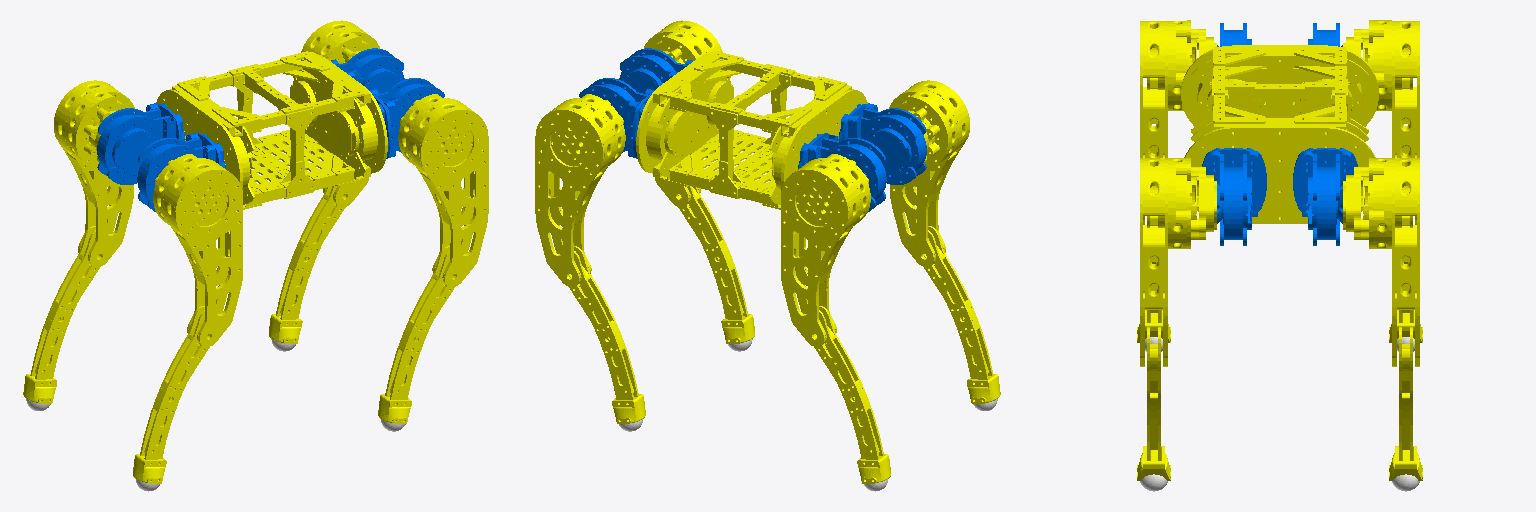
The robot description file, URDF, robot "g308_km1":
<?xml version="1.0" encoding="utf-8"?>
<!-- This URDF was automatically created by SolidWorks to URDF Exporter! Originally created by [author] ([email redacted]) 
     Commit Version: 1.6.0-4-g7f85cfe  Build Version: 1.6.7995.38578
     For more information, please see http://wiki.ros.org/sw_urdf_exporter -->
<robot
  name="g308_km1">
  <link
    name="base_link">
    <inertial>
      <origin
        xyz="-0.0214023928696577 1.70806164934374E-05 0.00448859468724072"
        rpy="0 0 0" />
      <mass
        value="2.67950972765001" />
      <inertia
        ixx="0.00764924890430011"
        ixy="5.2561537663457E-19"
        ixz="1.26393197598099E-21"
        iyy="0.00306662218528944"
        iyz="-2.86196080684661E-19"
        izz="0.00637351494049742" />
    </inertial>
    <visual>
      <origin
        xyz="0 0 0"
        rpy="0 0 0" />
      <geometry>
        <mesh
          filename="package://g308_km1/meshes/base_link.STL" />
      </geometry>
      <material
        name="">
        <color
          rgba="1 1 0 1" />
      </material>
    </visual>
    <collision>
      <origin
        xyz="0 0 0"
        rpy="0 0 0" />
      <geometry>
        <mesh
          filename="package://g308_km1/meshes/base_link.STL" />
      </geometry>
    </collision>
  </link>
  <link
    name="FL_hip">
    <inertial>
      <origin
        xyz="0.0323040033471831 0.000154622877039523 -0.000486401620728619"
        rpy="0 0 0" />
      <mass
        value="0.644397945178878" />
      <inertia
        ixx="0.000560096488896003"
        ixy="-2.58445896879449E-08"
        ixz="-1.17457351822239E-08"
        iyy="0.000387498452982006"
        iyz="9.77577836232393E-09"
        izz="0.000727167585866916" />
    </inertial>
    <visual>
      <origin
        xyz="0 0 0"
        rpy="0 0 0" />
      <geometry>
        <mesh
          filename="package://g308_km1/meshes/FL_hip.STL" />
      </geometry>
      <material
        name="">
        <color
          rgba="0 0.501960784313725 1 1" />
      </material>
    </visual>
    <collision>
      <origin
        xyz="0 0 0"
        rpy="0 0 0" />
      <geometry>
        <mesh
          filename="package://g308_km1/meshes/FL_hip.STL" />
      </geometry>
    </collision>
  </link>
  <joint
    name="FL_hip_joint"
    type="revolute">
    <origin
      xyz="-0.169896957635187 -0.0615 0.00773563134770065"
      rpy="1.5707963267949 0 3.14159265358979" />
    <parent
      link="base_link" />
    <child
      link="FL_hip" />
    <axis
      xyz="1 0 0" />
    <limit
      lower="0"
      upper="0"
      effort="20"
      velocity="10" />
  </joint>
  <link
    name="FL_thigh">
    <inertial>
      <origin
        xyz="-0.0033537558546152 -0.0338204158502984 -0.0432769291541659"
        rpy="0 0 0" />
      <mass
        value="1.30117807647032" />
      <inertia
        ixx="0.00279206136091976"
        ixy="0.000172867258688168"
        ixz="2.70466477607697E-06"
        iyy="0.000956985960310788"
        iyz="-2.89466002187096E-06"
        izz="0.00368635586600467" />
    </inertial>
    <visual>
      <origin
        xyz="0 0 0"
        rpy="0 0 0" />
      <geometry>
        <mesh
          filename="package://g308_km1/meshes/FL_thigh.STL" />
      </geometry>
      <material
        name="">
        <color
          rgba="1 1 0 1" />
      </material>
    </visual>
    <collision>
      <origin
        xyz="0 0 0"
        rpy="0 0 0" />
      <geometry>
        <mesh
          filename="package://g308_km1/meshes/FL_thigh.STL" />
      </geometry>
    </collision>
  </link>
  <joint
    name="FL_thigh_joint"
    type="revolute">
    <origin
      xyz="0.0677000000000162 0 -0.0389999999999989"
      rpy="0 0 0" />
    <parent
      link="FL_hip" />
    <child
      link="FL_thigh" />
    <axis
      xyz="0 0 1" />
    <limit
      lower="0"
      upper="0"
      effort="20"
      velocity="10" />
  </joint>
  <link
    name="FL_calf">
    <inertial>
      <origin
        xyz="0.0502864229249589 -0.0913683369163925 0.0100012603719433"
        rpy="0 0 0" />
      <mass
        value="0.24357427073011" />
      <inertia
        ixx="0.000648204117665967"
        ixy="-0.000308645680472932"
        ixz="-2.22084370787481E-09"
        iyy="0.000186059943789518"
        iyz="5.13538409378273E-09"
        izz="0.000823306990230801" />
    </inertial>
    <visual>
      <origin
        xyz="0 0 0"
        rpy="0 0 0" />
      <geometry>
        <mesh
          filename="package://g308_km1/meshes/FL_calf.STL" />
      </geometry>
      <material
        name="">
        <color
          rgba="1 1 0 1" />
      </material>
    </visual>
    <collision>
      <origin
        xyz="0 0 0"
        rpy="0 0 0" />
      <geometry>
        <mesh
          filename="package://g308_km1/meshes/FL_calf.STL" />
      </geometry>
    </collision>
  </link>
  <joint
    name="FL_calf_joint"
    type="revolute">
    <origin
      xyz="0 -0.220000000000026 -0.0764999999999719"
      rpy="0 0 0" />
    <parent
      link="FL_thigh" />
    <child
      link="FL_calf" />
    <axis
      xyz="0 0 -1" />
    <limit
      lower="0"
      upper="0"
      effort="20"
      velocity="10" />
  </joint>
  <link
    name="FL_foot">
    <inertial>
      <origin
        xyz="5.5799523890343E-09 0.000156464784506705 6.38025032922429E-05"
        rpy="0 0 0" />
      <mass
        value="0.0311902243903799" />
      <inertia
        ixx="5.06120841117783E-06"
        ixy="1.89067425933502E-14"
        ixz="8.44229940034712E-13"
        iyy="4.98515638872327E-06"
        iyz="-1.02064134491063E-08"
        izz="5.01872622594315E-06" />
    </inertial>
    <visual>
      <origin
        xyz="0 0 0"
        rpy="0 0 0" />
      <geometry>
        <mesh
          filename="package://g308_km1/meshes/FL_foot.STL" />
      </geometry>
      <material
        name="">
        <color
          rgba="1 1 1 1" />
      </material>
    </visual>
    <collision>
      <origin
        xyz="0 0 0"
        rpy="0 0 0" />
      <geometry>
        <mesh
          filename="package://g308_km1/meshes/FL_foot.STL" />
      </geometry>
    </collision>
  </link>
  <joint
    name="FL_foot_joint"
    type="fixed">
    <origin
      xyz="0.096205 -0.22407 0.01"
      rpy="2.9432 1.5708 0" />
    <parent
      link="FL_calf" />
    <child
      link="FL_foot" />
    <axis
      xyz="0 0 0" />
    <limit
      effort="20"
      velocity="10" />
  </joint>
  <link
    name="RL_hip">
    <inertial>
      <origin
        xyz="-0.0322961922062757 0.000118232562381426 -0.000486401620728563"
        rpy="0 0 0" />
      <mass
        value="0.644397945178878" />
      <inertia
        ixx="0.000560096488896003"
        ixy="-2.58445896960332E-08"
        ixz="1.17455817602919E-08"
        iyy="0.000387498452982005"
        iyz="-9.77562253147767E-09"
        izz="0.000727167585866916" />
    </inertial>
    <visual>
      <origin
        xyz="0 0 0"
        rpy="0 0 0" />
      <geometry>
        <mesh
          filename="package://g308_km1/meshes/RL_hip.STL" />
      </geometry>
      <material
        name="">
        <color
          rgba="0 0.501960784313725 1 1" />
      </material>
    </visual>
    <collision>
      <origin
        xyz="0 0 0"
        rpy="0 0 0" />
      <geometry>
        <mesh
          filename="package://g308_km1/meshes/RL_hip.STL" />
      </geometry>
    </collision>
  </link>
  <joint
    name="RL_hip_joint"
    type="revolute">
    <origin
      xyz="0.127094802324014 -0.0614999999999994 0.00773563134769148"
      rpy="1.5707963267949 0 3.14159265358979" />
    <parent
      link="base_link" />
    <child
      link="RL_hip" />
    <axis
      xyz="1 0 0" />
    <limit
      lower="0"
      upper="0"
      effort="20"
      velocity="10" />
  </joint>
  <link
    name="RL_thigh">
    <inertial>
      <origin
        xyz="-0.0149951778219201 -0.0221789938829724 -0.0232769291541693"
        rpy="0 0 0" />
      <mass
        value="1.30117807647032" />
      <inertia
        ixx="0.0027920613609198"
        ixy="0.000172867258688068"
        ixz="2.70466477608774E-06"
        iyy="0.000956985960310799"
        iyz="-2.89466002170012E-06"
        izz="0.00368635586600472" />
    </inertial>
    <visual>
      <origin
        xyz="0 0 0"
        rpy="0 0 0" />
      <geometry>
        <mesh
          filename="package://g308_km1/meshes/RL_thigh.STL" />
      </geometry>
      <material
        name="">
        <color
          rgba="1 1 0 1" />
      </material>
    </visual>
    <collision>
      <origin
        xyz="0 0 0"
        rpy="0 0 0" />
      <geometry>
        <mesh
          filename="package://g308_km1/meshes/RL_thigh.STL" />
      </geometry>
    </collision>
  </link>
  <joint
    name="RL_thigh_joint"
    type="revolute">
    <origin
      xyz="-0.0560585780326777 -0.0116414219673207 -0.0590000000000003"
      rpy="0 0 0" />
    <parent
      link="RL_hip" />
    <child
      link="RL_thigh" />
    <axis
      xyz="0 0 1" />
    <limit
      lower="0"
      upper="0"
      effort="20"
      velocity="10" />
  </joint>
  <link
    name="RL_calf">
    <inertial>
      <origin
        xyz="0.050286422924934 -0.0913683369164015 0.0100012603719424"
        rpy="0 0 0" />
      <mass
        value="0.243574270730111" />
      <inertia
        ixx="0.000648204117665957"
        ixy="-0.000308645680472917"
        ixz="-2.22084372729984E-09"
        iyy="0.000186059943789613"
        iyz="5.13538413373085E-09"
        izz="0.000823306990230887" />
    </inertial>
    <visual>
      <origin
        xyz="0 0 0"
        rpy="0 0 0" />
      <geometry>
        <mesh
          filename="package://g308_km1/meshes/RL_calf.STL" />
      </geometry>
      <material
        name="">
        <color
          rgba="1 1 0 1" />
      </material>
    </visual>
    <collision>
      <origin
        xyz="0 0 0"
        rpy="0 0 0" />
      <geometry>
        <mesh
          filename="package://g308_km1/meshes/RL_calf.STL" />
      </geometry>
    </collision>
  </link>
  <joint
    name="RL_calf_joint"
    type="revolute">
    <origin
      xyz="-0.0116414219673155 -0.208358578032676 -0.0565000000000064"
      rpy="0 0 0" />
    <parent
      link="RL_thigh" />
    <child
      link="RL_calf" />
    <axis
      xyz="0 0 -1" />
    <limit
      lower="0"
      upper="0"
      effort="20"
      velocity="10" />
  </joint>
  <link
    name="RL_foot">
    <inertial>
      <origin
        xyz="5.57990809113562E-09 0.000156464784550669 6.38025034006562E-05"
        rpy="0 0 0" />
      <mass
        value="0.0311902243903798" />
      <inertia
        ixx="5.06120841117782E-06"
        ixy="1.89067431518709E-14"
        ixz="8.44229935295326E-13"
        iyy="4.98515638872326E-06"
        iyz="-1.0206413449107E-08"
        izz="5.01872622594313E-06" />
    </inertial>
    <visual>
      <origin
        xyz="0 0 0"
        rpy="0 0 0" />
      <geometry>
        <mesh
          filename="package://g308_km1/meshes/RL_foot.STL" />
      </geometry>
      <material
        name="">
        <color
          rgba="1 1 1 1" />
      </material>
    </visual>
    <collision>
      <origin
        xyz="0 0 0"
        rpy="0 0 0" />
      <geometry>
        <mesh
          filename="package://g308_km1/meshes/RL_foot.STL" />
      </geometry>
    </collision>
  </link>
  <joint
    name="RL_foot_joint"
    type="fixed">
    <origin
      xyz="0.0962046871823952 -0.224068557252952 0.00999999999999387"
      rpy="2.94324795442992 1.5707963267949 0" />
    <parent
      link="RL_calf" />
    <child
      link="RL_foot" />
    <axis
      xyz="0 0 0" />
  </joint>
  <link
    name="FR_hip">
    <inertial>
      <origin
        xyz="0.0328882308707016 5.13558654990113E-05 0.00116372480202901"
        rpy="0 0 0" />
      <mass
        value="0.627619661039507" />
      <inertia
        ixx="0.000548847991355844"
        ixy="2.58446337337962E-08"
        ixz="1.17457363866266E-08"
        iyy="0.00038703187400824"
        iyz="9.7756237384996E-09"
        izz="0.00071592312919307" />
    </inertial>
    <visual>
      <origin
        xyz="0 0 0"
        rpy="0 0 0" />
      <geometry>
        <mesh
          filename="package://g308_km1/meshes/FR_hip.STL" />
      </geometry>
      <material
        name="">
        <color
          rgba="0 0.501960784313725 1 1" />
      </material>
    </visual>
    <collision>
      <origin
        xyz="0 0 0"
        rpy="0 0 0" />
      <geometry>
        <mesh
          filename="package://g308_km1/meshes/FR_hip.STL" />
      </geometry>
    </collision>
  </link>
  <joint
    name="FR_hip_joint"
    type="revolute">
    <origin
      xyz="-0.169896957635188 0.0614999999999995 0.00773563134775156"
      rpy="1.5707963267949 0 3.14159265358979" />
    <parent
      link="base_link" />
    <child
      link="FR_hip" />
    <axis
      xyz="-1 0 0" />
    <limit
      lower="0"
      upper="0"
      effort="20"
      velocity="10" />
  </joint>
  <link
    name="FR_thigh">
    <inertial>
      <origin
        xyz="-0.0149824336727326 -0.0221662474948432 0.0232775991127793"
        rpy="0 0 0" />
      <mass
        value="1.30117807349874" />
      <inertia
        ixx="0.00279200942822017"
        ixy="0.000172867291737978"
        ixz="-2.71881146420577E-06"
        iyy="0.000957037887128649"
        iyz="2.87596106308682E-06"
        izz="0.00368635586021441" />
    </inertial>
    <visual>
      <origin
        xyz="0 0 0"
        rpy="0 0 0" />
      <geometry>
        <mesh
          filename="package://g308_km1/meshes/FR_thigh.STL" />
      </geometry>
      <material
        name="">
        <color
          rgba="1 1 0 1" />
      </material>
    </visual>
    <collision>
      <origin
        xyz="0 0 0"
        rpy="0 0 0" />
      <geometry>
        <mesh
          filename="package://g308_km1/meshes/FR_thigh.STL" />
      </geometry>
    </collision>
  </link>
  <joint
    name="FR_thigh_joint"
    type="revolute">
    <origin
      xyz="0.079341421967319 -0.0116414219674237 0.0590000000000012"
      rpy="0 0 0" />
    <parent
      link="FR_hip" />
    <child
      link="FR_thigh" />
    <axis
      xyz="0 0 -1" />
    <limit
      lower="0"
      upper="0"
      effort="20"
      velocity="10" />
  </joint>
  <link
    name="FR_calf">
    <inertial>
      <origin
        xyz="0.0502864229247135 -0.0913683369163238 0.0100012603716219"
        rpy="0 0 0" />
      <mass
        value="0.24357427073011" />
      <inertia
        ixx="0.000648204117665619"
        ixy="-0.00030864568047321"
        ixz="-2.22084371121094E-09"
        iyy="0.000186059943789911"
        iyz="5.13538410061314E-09"
        izz="0.000823306990230846" />
    </inertial>
    <visual>
      <origin
        xyz="0 0 0"
        rpy="0 0 0" />
      <geometry>
        <mesh
          filename="package://g308_km1/meshes/FR_calf.STL" />
      </geometry>
      <material
        name="">
        <color
          rgba="1 1 0 1" />
      </material>
    </visual>
    <collision>
      <origin
        xyz="0 0 0"
        rpy="0 0 0" />
      <geometry>
        <mesh
          filename="package://g308_km1/meshes/FR_calf.STL" />
      </geometry>
    </collision>
  </link>
  <joint
    name="FR_calf_joint"
    type="revolute">
    <origin
      xyz="-0.0116414219673081 -0.208358578032625 0.0365000000000108"
      rpy="0 0 0" />
    <parent
      link="FR_thigh" />
    <child
      link="FR_calf" />
    <axis
      xyz="0 0 -1" />
    <limit
      lower="0"
      upper="0"
      effort="20"
      velocity="10" />
  </joint>
  <link
    name="FR_foot">
    <inertial>
      <origin
        xyz="5.5794797948483E-09 0.000156464783892196 6.380250312224E-05"
        rpy="0 0 0" />
      <mass
        value="0.0311902243903798" />
      <inertia
        ixx="5.06120841117781E-06"
        ixy="1.89067356881044E-14"
        ixz="8.44229933319704E-13"
        iyy="4.98515638872325E-06"
        iyz="-1.02064134491049E-08"
        izz="5.01872622594312E-06" />
    </inertial>
    <visual>
      <origin
        xyz="0 0 0"
        rpy="0 0 0" />
      <geometry>
        <mesh
          filename="package://g308_km1/meshes/FR_foot.STL" />
      </geometry>
      <material
        name="">
        <color
          rgba="1 1 1 1" />
      </material>
    </visual>
    <collision>
      <origin
        xyz="0 0 0"
        rpy="0 0 0" />
      <geometry>
        <mesh
          filename="package://g308_km1/meshes/FR_foot.STL" />
      </geometry>
    </collision>
  </link>
  <joint
    name="FR_foot_joint"
    type="fixed">
    <origin
      xyz="0.096204687182093 -0.224068557253551 0.00999999999925294"
      rpy="2.94324795442943 1.5707963267949 0" />
    <parent
      link="FR_calf" />
    <child
      link="FR_foot" />
    <axis
      xyz="0 0 0" />
  </joint>
  <link
    name="RR_hip">
    <inertial>
      <origin
        xyz="-0.0323040033464899 0.000154622880969818 0.000486401620728424"
        rpy="0 0 0" />
      <mass
        value="0.644397945178878" />
      <inertia
        ixx="0.000560096488810072"
        ixy="2.58446337343288E-08"
        ixz="-1.17455805560946E-08"
        iyy="0.000387498453067936"
        iyz="-9.77577716494525E-09"
        izz="0.000727167585866916" />
    </inertial>
    <visual>
      <origin
        xyz="0 0 0"
        rpy="0 0 0" />
      <geometry>
        <mesh
          filename="package://g308_km1/meshes/RR_hip.STL" />
      </geometry>
      <material
        name="">
        <color
          rgba="0 0.501960784313725 1 1" />
      </material>
    </visual>
    <collision>
      <origin
        xyz="0 0 0"
        rpy="0 0 0" />
      <geometry>
        <mesh
          filename="package://g308_km1/meshes/RR_hip.STL" />
      </geometry>
    </collision>
  </link>
  <joint
    name="RR_hip_joint"
    type="revolute">
    <origin
      xyz="0.127094802324014 0.0614999999999997 0.00773563134771109"
      rpy="1.5707963267949 0 3.14159265358979" />
    <parent
      link="base_link" />
    <child
      link="RR_hip" />
    <axis
      xyz="1 0 0" />
    <limit
      lower="0"
      upper="0"
      effort="20"
      velocity="10" />
  </joint>
  <link
    name="RR_thigh">
    <inertial>
      <origin
        xyz="-0.0149824336727321 -0.0221662474948892 0.023277599112779"
        rpy="0 0 0" />
      <mass
        value="1.30117807349874" />
      <inertia
        ixx="0.00279200942822016"
        ixy="0.000172867291737971"
        ixz="-2.71881146419933E-06"
        iyy="0.000957037887128646"
        iyz="2.87596106321794E-06"
        izz="0.0036863558602144" />
    </inertial>
    <visual>
      <origin
        xyz="0 0 0"
        rpy="0 0 0" />
      <geometry>
        <mesh
          filename="package://g308_km1/meshes/RR_thigh.STL" />
      </geometry>
      <material
        name="">
        <color
          rgba="1 1 0 1" />
      </material>
    </visual>
    <collision>
      <origin
        xyz="0 0 0"
        rpy="0 0 0" />
      <geometry>
        <mesh
          filename="package://g308_km1/meshes/RR_thigh.STL" />
      </geometry>
    </collision>
  </link>
  <joint
    name="RR_thigh_joint"
    type="revolute">
    <origin
      xyz="-0.0560585780326782 -0.0116414219673418 0.0589999999999988"
      rpy="0 0 0" />
    <parent
      link="RR_hip" />
    <child
      link="RR_thigh" />
    <axis
      xyz="0 0 -1" />
    <limit
      lower="0"
      upper="0"
      effort="20"
      velocity="10" />
  </joint>
  <link
    name="RR_calf">
    <inertial>
      <origin
        xyz="0.050286422924619 -0.0913683369162182 0.010001260371611"
        rpy="0 0 0" />
      <mass
        value="0.243574270730111" />
      <inertia
        ixx="0.000648204117665624"
        ixy="-0.000308645680473196"
        ixz="-2.22084372633983E-09"
        iyy="0.000186059943789909"
        iyz="5.13538413168464E-09"
        izz="0.000823306990230848" />
    </inertial>
    <visual>
      <origin
        xyz="0 0 0"
        rpy="0 0 0" />
      <geometry>
        <mesh
          filename="package://g308_km1/meshes/RR_calf.STL" />
      </geometry>
      <material
        name="">
        <color
          rgba="1 1 0 1" />
      </material>
    </visual>
    <collision>
      <origin
        xyz="0 0 0"
        rpy="0 0 0" />
      <geometry>
        <mesh
          filename="package://g308_km1/meshes/RR_calf.STL" />
      </geometry>
    </collision>
  </link>
  <joint
    name="RR_calf_joint"
    type="revolute">
    <origin
      xyz="-0.0116414219673032 -0.208358578032695 0.0365"
      rpy="0 0 0" />
    <parent
      link="RR_thigh" />
    <child
      link="RR_calf" />
    <axis
      xyz="0 0 -1" />
    <limit
      lower="0"
      upper="0"
      effort="20"
      velocity="10" />
  </joint>
  <link
    name="RR_foot">
    <inertial>
      <origin
        xyz="5.57995996630645E-09 0.000156464784179633 6.38025035164247E-05"
        rpy="0 0 0" />
      <mass
        value="0.0311902243903798" />
      <inertia
        ixx="5.06120841117781E-06"
        ixy="1.8906741882183E-14"
        ixz="8.442299343182E-13"
        iyy="4.98515638872325E-06"
        iyz="-1.02064134491068E-08"
        izz="5.01872622594312E-06" />
    </inertial>
    <visual>
      <origin
        xyz="0 0 0"
        rpy="0 0 0" />
      <geometry>
        <mesh
          filename="package://g308_km1/meshes/RR_foot.STL" />
      </geometry>
      <material
        name="">
        <color
          rgba="1 1 1 1" />
      </material>
    </visual>
    <collision>
      <origin
        xyz="0 0 0"
        rpy="0 0 0" />
      <geometry>
        <mesh
          filename="package://g308_km1/meshes/RR_foot.STL" />
      </geometry>
    </collision>
  </link>
  <joint
    name="RR_foot_joint"
    type="fixed">
    <origin
      xyz="0.096205 -0.22407 0.01"
      rpy="2.9432 1.5708 0" />
    <parent
      link="RR_calf" />
    <child
      link="RR_foot" />
    <axis
      xyz="0 0 0" />
  </joint>
</robot>

--- What the picture shows (computed from the rendered views, not written in the file) ---
Views: 3 orthographic renders of the robot side by side, from view 1: azimuth 30°, elevation 25°; view 2: azimuth 150°, elevation 25°; view 3: azimuth 270°, elevation 25°.
Model g308_km1 with 17 links and 16 joints (12 revolute, 4 fixed), rooted at base_link, posed all joints at 0.
Links seen in each view (by area): view 1: base_link, RL_thigh, FL_thigh, FR_thigh, FR_hip, FR_calf, FL_calf, RL_calf, RR_calf, RR_thigh, FL_hip, RL_hip (+1 smaller); view 2: base_link, RR_thigh, FR_thigh, FL_thigh, FL_hip, FL_calf, FR_calf, RR_calf, RL_calf, RL_thigh, FR_hip, RR_hip (+1 smaller); view 3: base_link, RL_thigh, RR_thigh, FR_thigh, FL_thigh, RL_hip, RR_hip, RL_calf, RR_calf, FL_calf, FR_calf.
Boxes of the visible links, x1=… form: base_link: x1=156, y1=51, x2=387, y2=209; RL_thigh: x1=398, y1=94, x2=488, y2=286; FL_thigh: x1=153, y1=154, x2=242, y2=346; FR_thigh: x1=54, y1=80, x2=134, y2=266; FR_hip: x1=97, y1=103, x2=185, y2=184; FR_calf: x1=23, y1=226, x2=100, y2=403; FL_calf: x1=133, y1=306, x2=209, y2=483; RL_calf: x1=378, y1=246, x2=454, y2=423; RR_calf: x1=269, y1=186, x2=345, y2=343; RR_thigh: x1=301, y1=20, x2=379, y2=206; FL_hip: x1=137, y1=133, x2=225, y2=211; RL_hip: x1=369, y1=78, x2=444, y2=158; base_link: x1=636, y1=51, x2=867, y2=211; RR_thigh: x1=535, y1=94, x2=625, y2=286; FR_thigh: x1=781, y1=154, x2=870, y2=346; FL_thigh: x1=889, y1=80, x2=969, y2=266; FL_hip: x1=838, y1=103, x2=926, y2=184; FL_calf: x1=923, y1=226, x2=1000, y2=403; FR_calf: x1=814, y1=306, x2=890, y2=483; RR_calf: x1=569, y1=246, x2=645, y2=423; RL_calf: x1=678, y1=186, x2=754, y2=343; RL_thigh: x1=644, y1=20, x2=722, y2=206; FR_hip: x1=798, y1=133, x2=886, y2=211; RR_hip: x1=579, y1=78, x2=654, y2=158; base_link: x1=1181, y1=45, x2=1378, y2=223; RL_thigh: x1=1140, y1=158, x2=1216, y2=366; RR_thigh: x1=1343, y1=158, x2=1419, y2=366; FR_thigh: x1=1343, y1=20, x2=1419, y2=224; FL_thigh: x1=1140, y1=20, x2=1216, y2=224; RL_hip: x1=1202, y1=148, x2=1266, y2=245; RR_hip: x1=1293, y1=148, x2=1357, y2=245; RL_calf: x1=1137, y1=327, x2=1170, y2=480; RR_calf: x1=1389, y1=327, x2=1422, y2=480; FL_calf: x1=1137, y1=262, x2=1170, y2=342; FR_calf: x1=1389, y1=262, x2=1422, y2=342.
Size in the robot's own frame: 0.6125 by 0.379 by 0.537 metres.
Meshes: 17 distinct files referenced, 17 mesh visuals loaded (17 binary STL).
